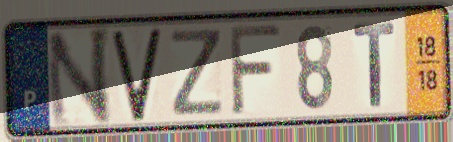8: (294, 22, 335, 113)
F: (227, 23, 284, 119)
N: (42, 23, 113, 131)
T: (350, 19, 397, 109)
V: (109, 24, 164, 125)
Z: (168, 26, 226, 120)
